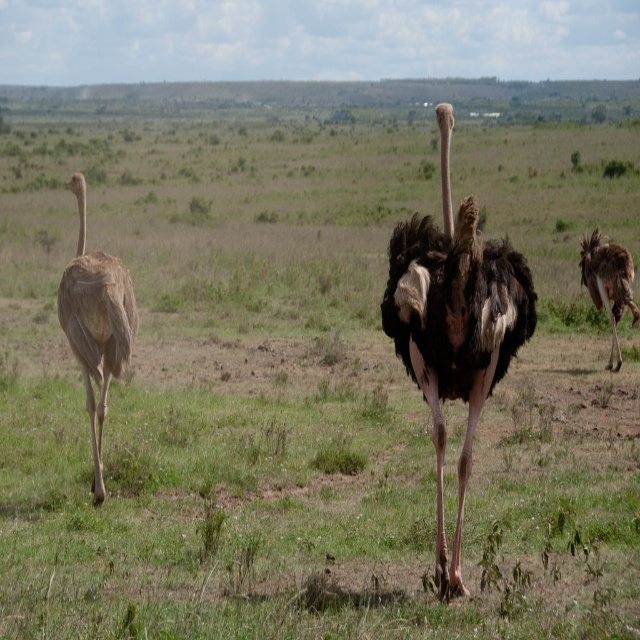Ostrich: (380, 103, 539, 605), (56, 171, 140, 506), (577, 225, 640, 376)
